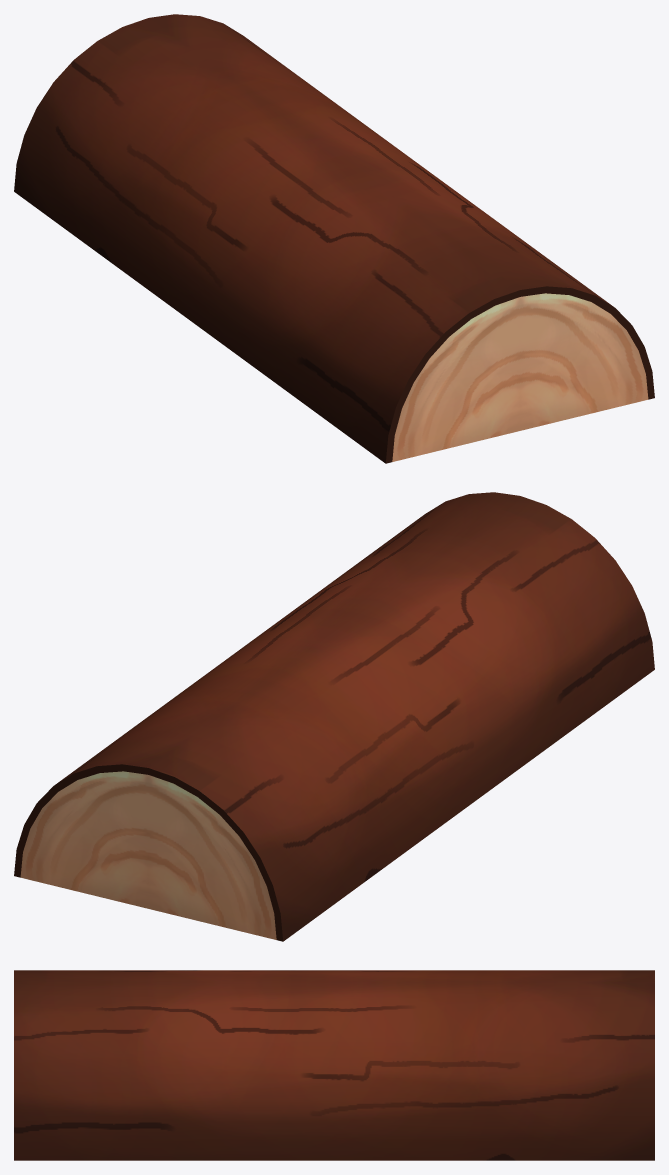
Rendered from Log2.fbx.
3 views of the same model, one above another, from view 1: azimuth 30°, elevation 25°; view 2: azimuth 150°, elevation 25°; view 3: azimuth 270°, elevation 25° (orthographic). The views are drawn at different scales.
Parts seen in each view (by area): view 1: Log2; view 2: Log2; view 3: Log2.
Boxes of the visible parts, bbox=[...] form: Log2: bbox=[14, 14, 654, 463]; Log2: bbox=[14, 492, 654, 941]; Log2: bbox=[14, 970, 654, 1160].
Bounding box in the file's own units: 37.17 × 18.58 × 88.88.
Materials: 1 (1 with a texture image).
